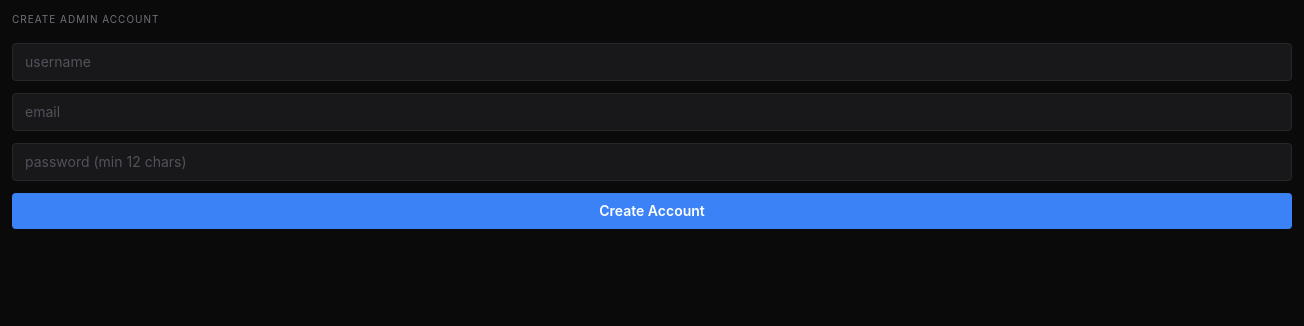
Test case: SetupPage › shows password validation errors for weak password
The width and height of the screenshot is (1304, 326).
Type "weak" into the password field with placeholder "password (min 12 chars)". click: (652, 162)
box: [12,143,1292,181]
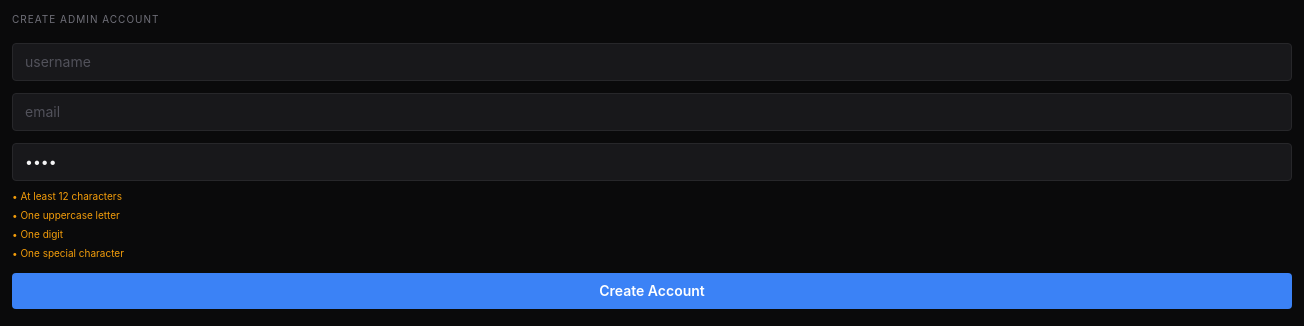
Result: the text "• At least 12 characters" is shown at [12,190,122,202]
Result: the text "• One uppercase letter" is shown at [12,209,120,221]
Result: the text "• One digit" is shown at [12,228,63,240]
